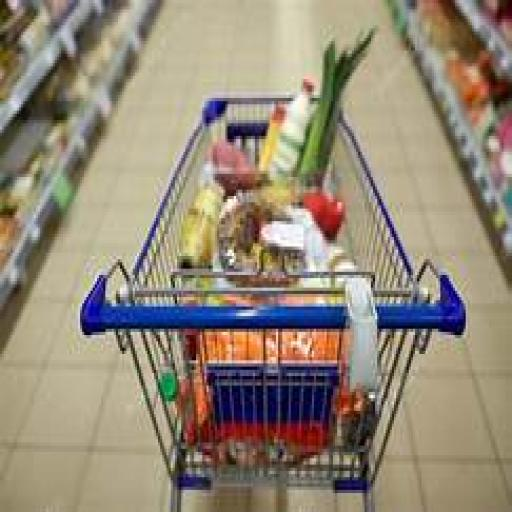shopping_cart: (78, 95, 468, 512)
